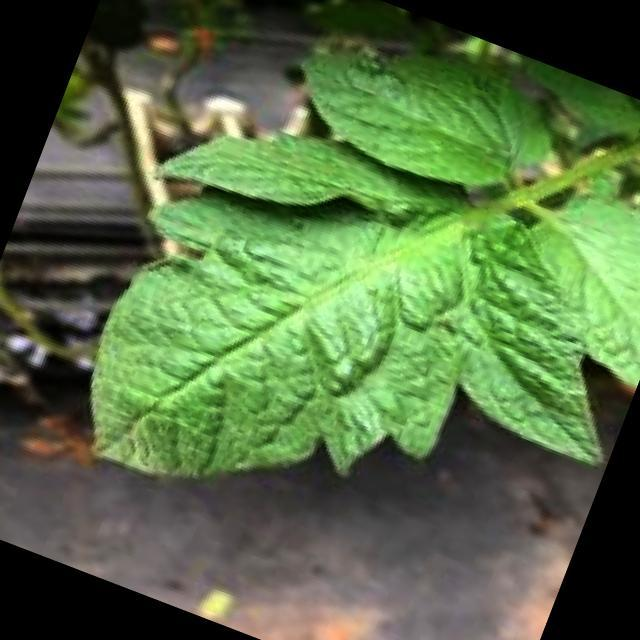Tomato healthy leaf: (91, 52, 640, 485)
